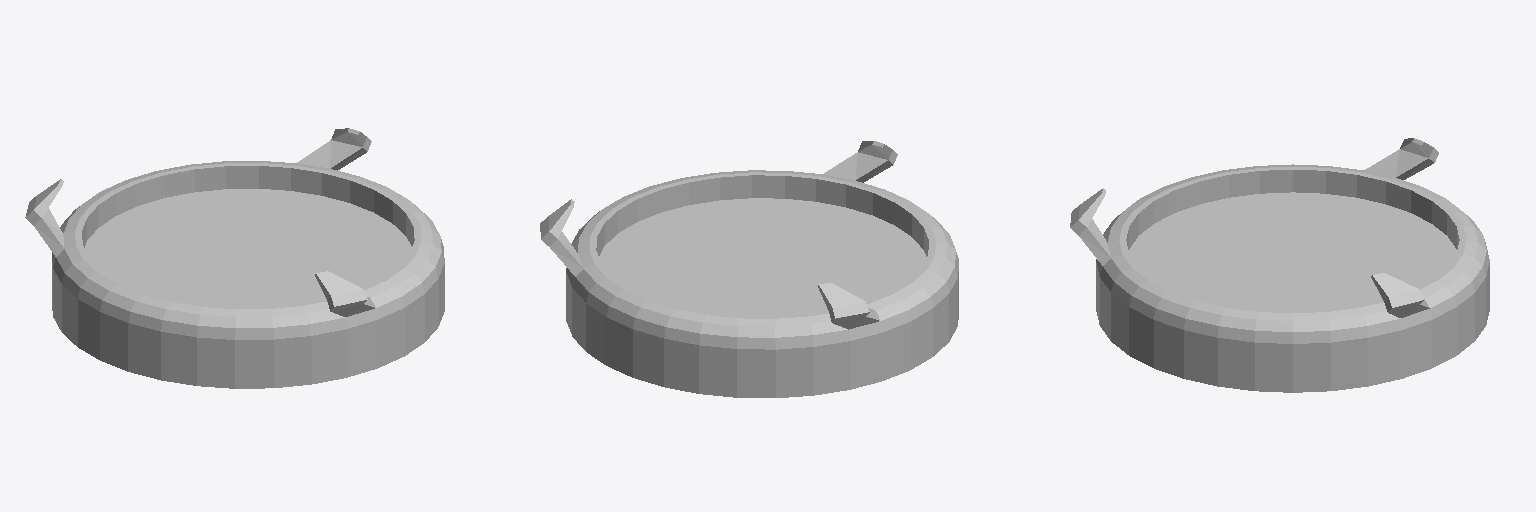
File: emitter.obj
3 renders of one model, left to right at view 1: azimuth 30°, elevation 25°; view 2: azimuth 150°, elevation 25°; view 3: azimuth 270°, elevation 25°, orthographic.
Parts seen in each view (by area): view 1: Cylinder.001; view 2: Cylinder.001; view 3: Cylinder.001.
Part boxes in pixels (x1,y1,x2,y2): Cylinder.001: (25, 128, 444, 388); Cylinder.001: (540, 141, 958, 397); Cylinder.001: (1070, 138, 1489, 392).
Bounding box in the file's own units: 2.4 × 0.7236 × 2.54.